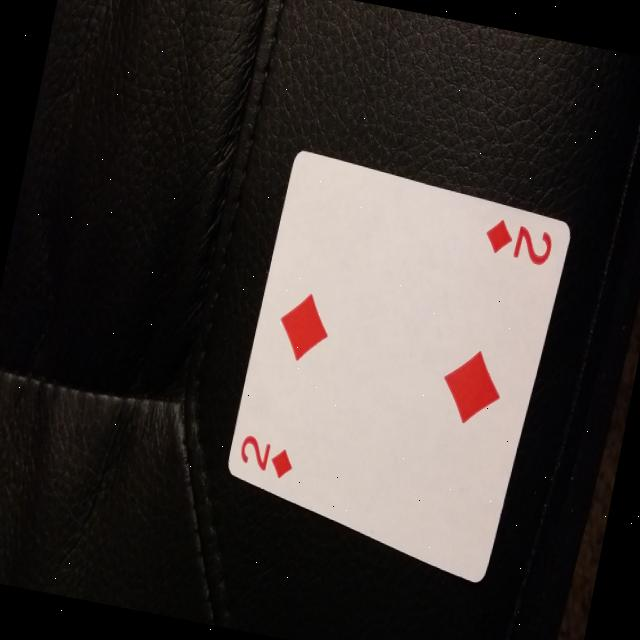2d: (466, 213, 561, 286), (228, 428, 306, 486)
